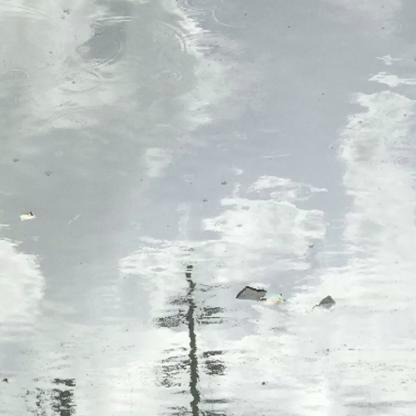Trash: (232, 282, 268, 309), (310, 291, 340, 318), (264, 295, 286, 314)
